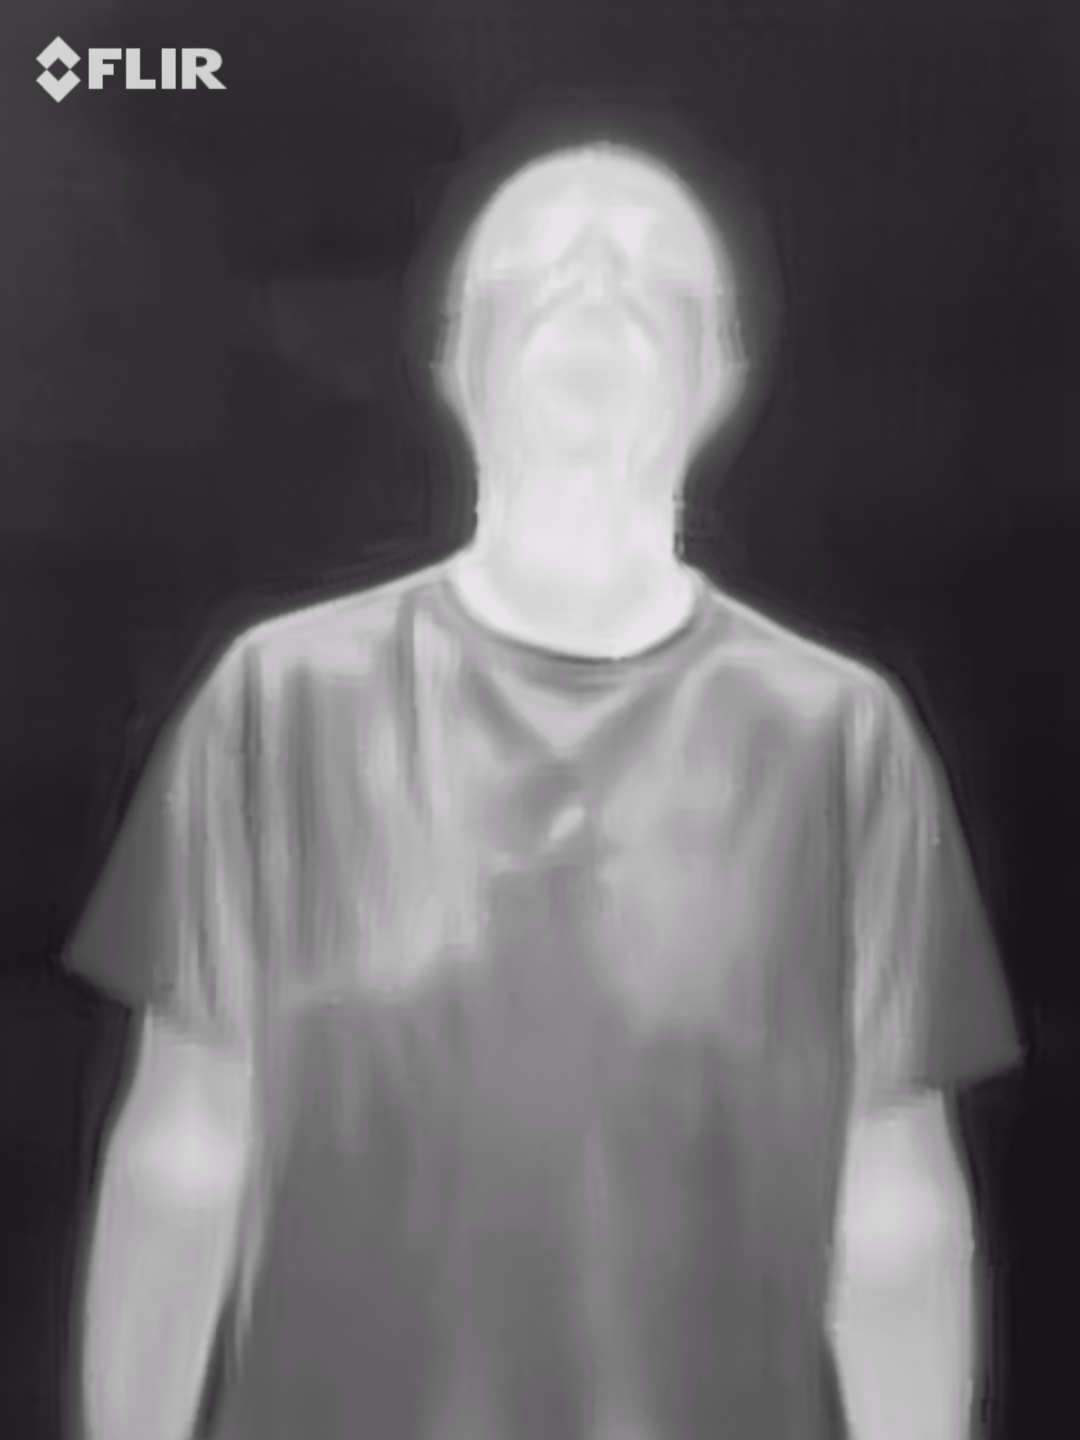head: (426, 134, 752, 535)
